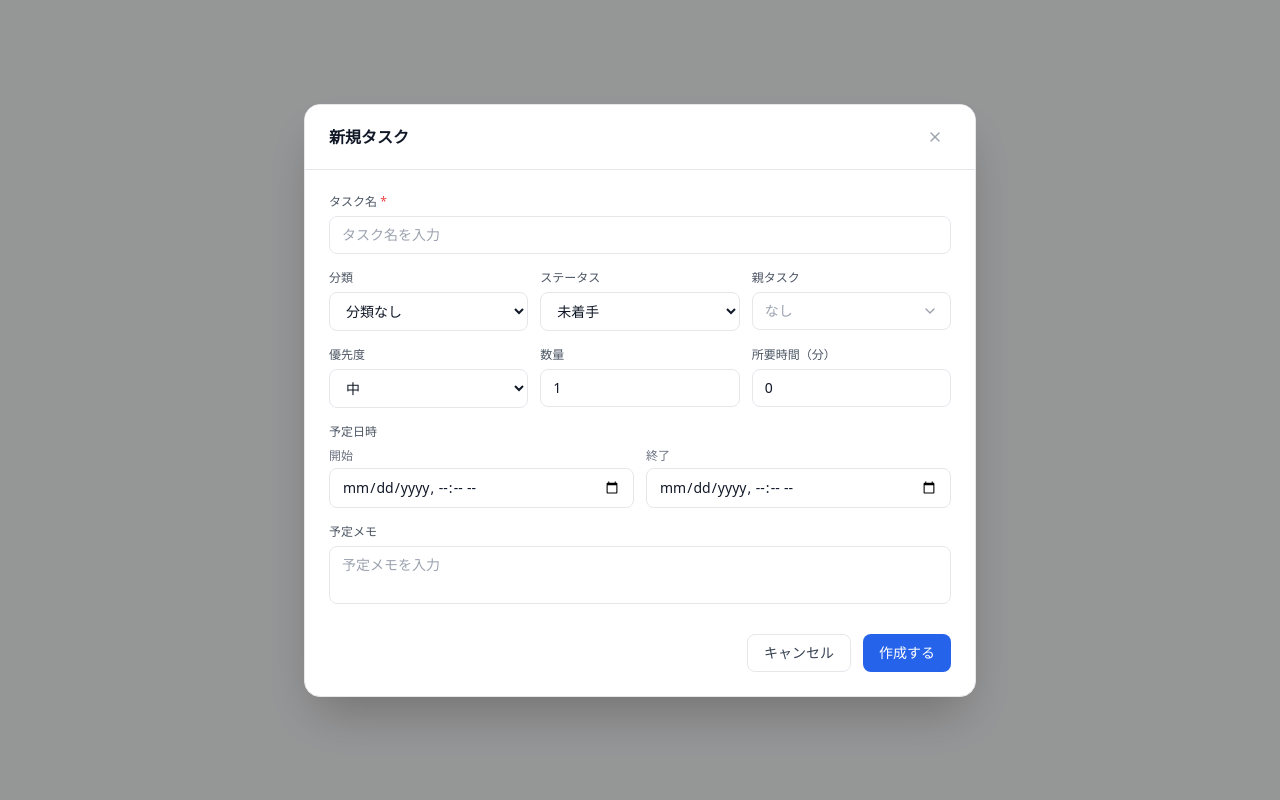
Test: TaskForm DOM input and UI state › TC-CB-110 TD039 TV039 TA007 R003/R007 完了で終了実績日時がない場合は保存しない
Step 1. Type "有効なタスク" into the field with placeholder "タスク名を入力" → (640, 234), box [329,216,951,254]
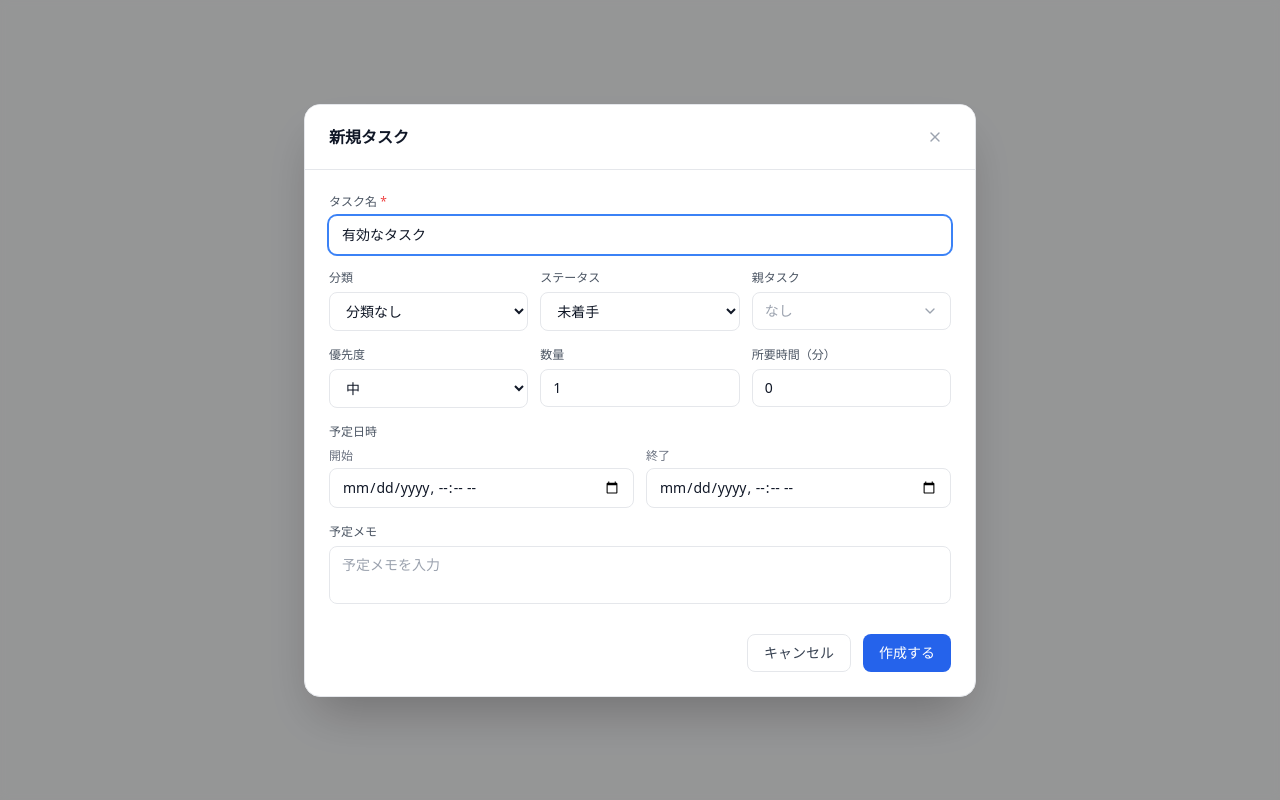
Step 2. Select "完了" in the dropdown showing "未着手" below "ステータス" → (640, 311), box [540,292,740,330]
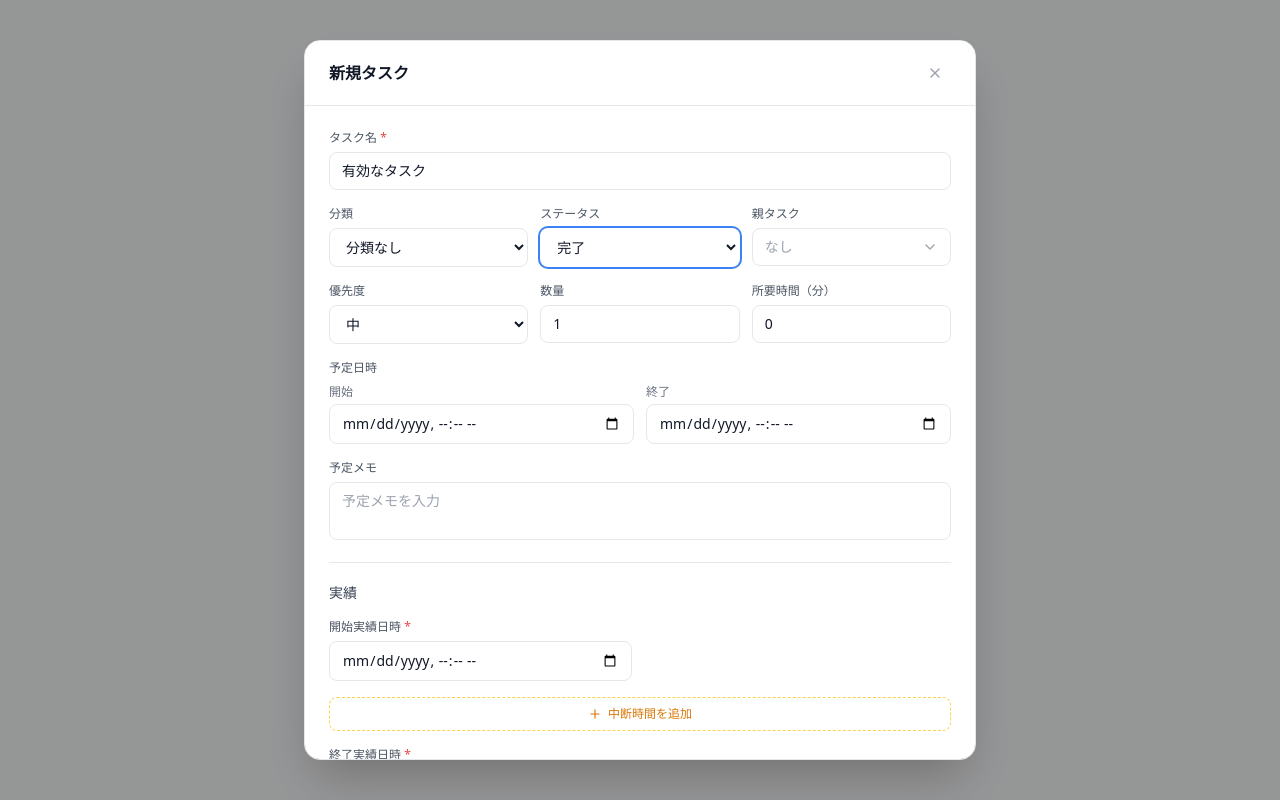
Step 3. Type "2026-06-27T09:00" into the field below "開始実績日時" → (480, 661), box [329,641,632,681]
(page scrolled)
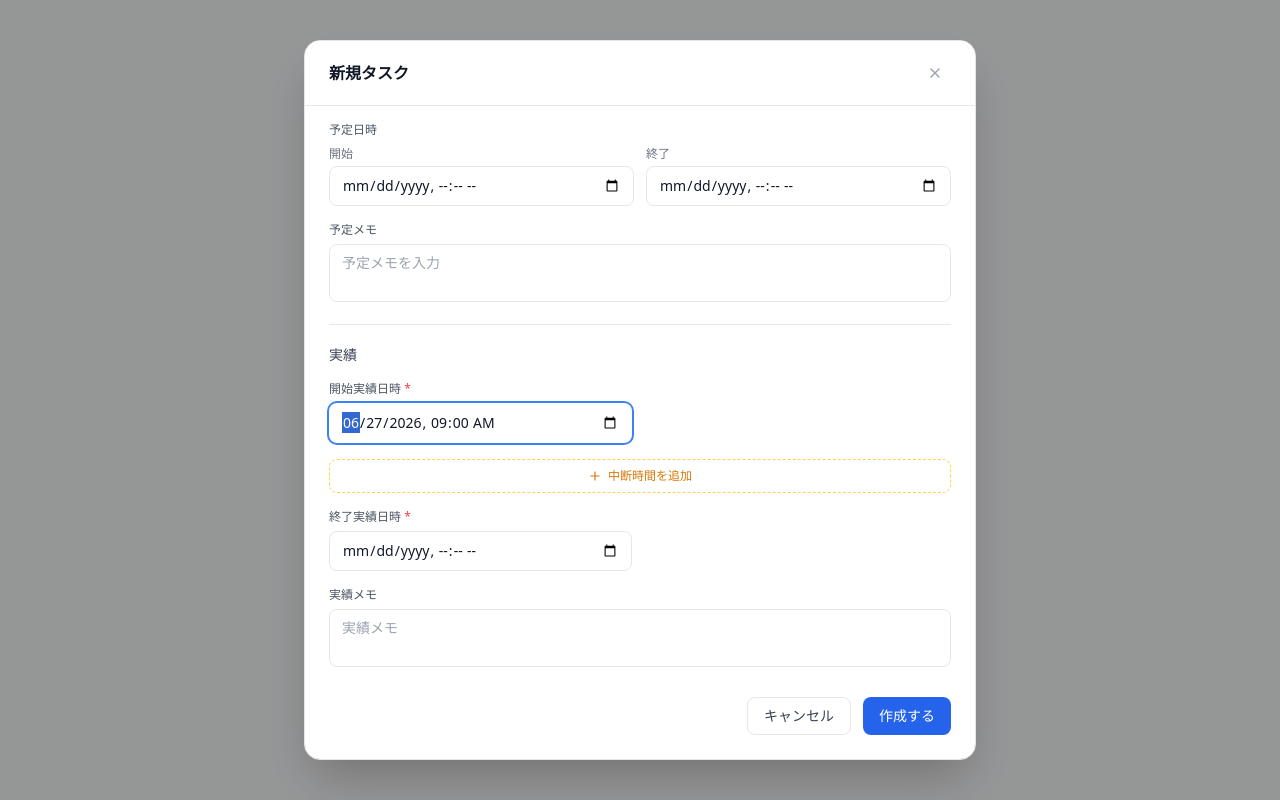
Step 4. Click the button "作成する" → (907, 716), box [863,697,951,735]
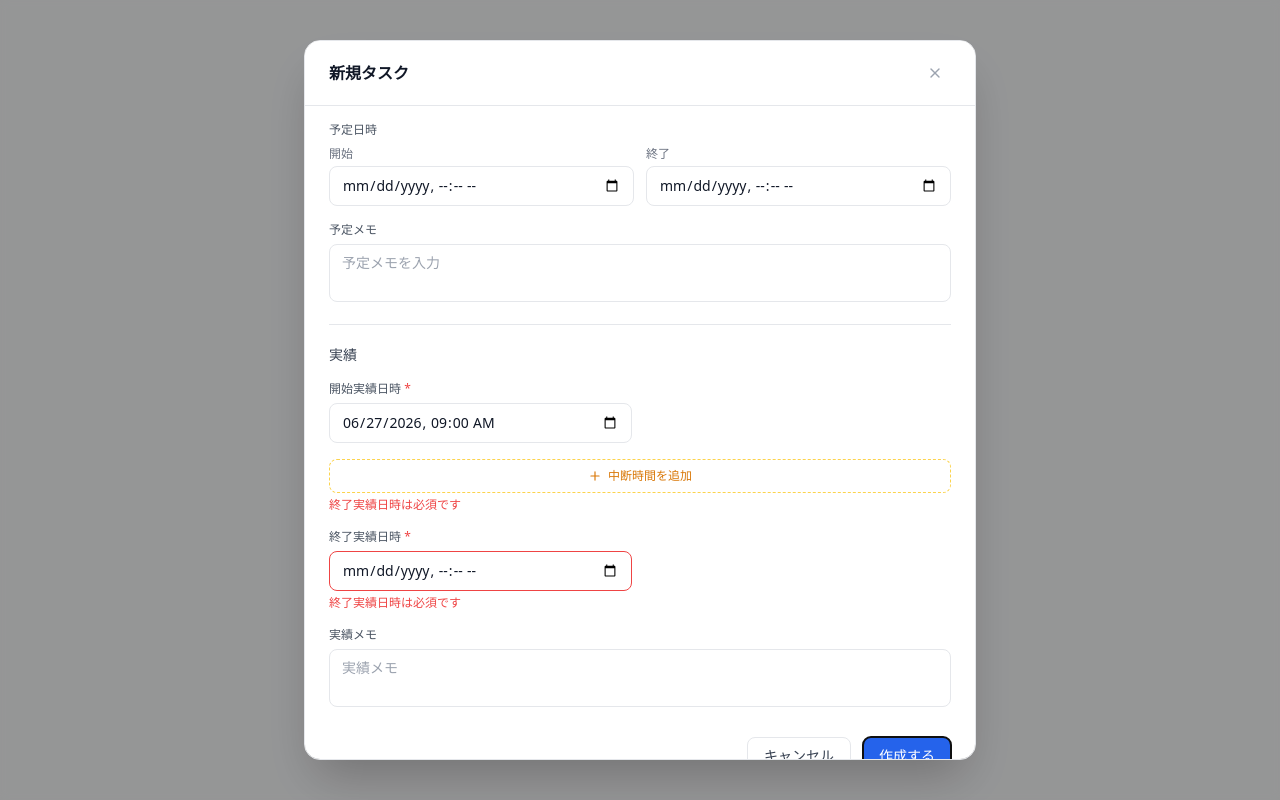
Result: the 1st text "終了実績日時は必須です" is shown at [329,496,461,513]
